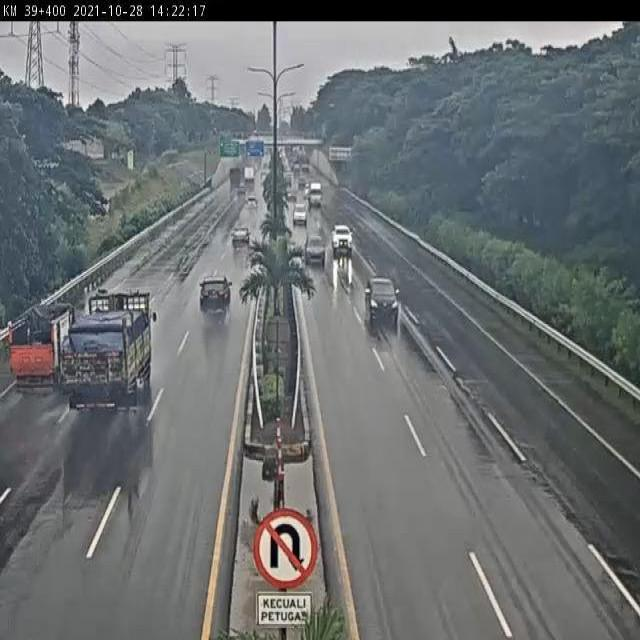car: (362, 275, 401, 328), (199, 272, 232, 316)
truck-l-: (61, 290, 151, 418)
truck-s-: (5, 295, 75, 393)
